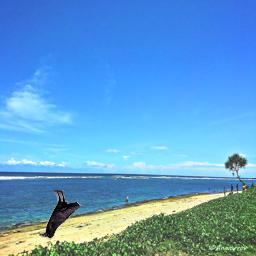Crow: (41, 190, 82, 240)
